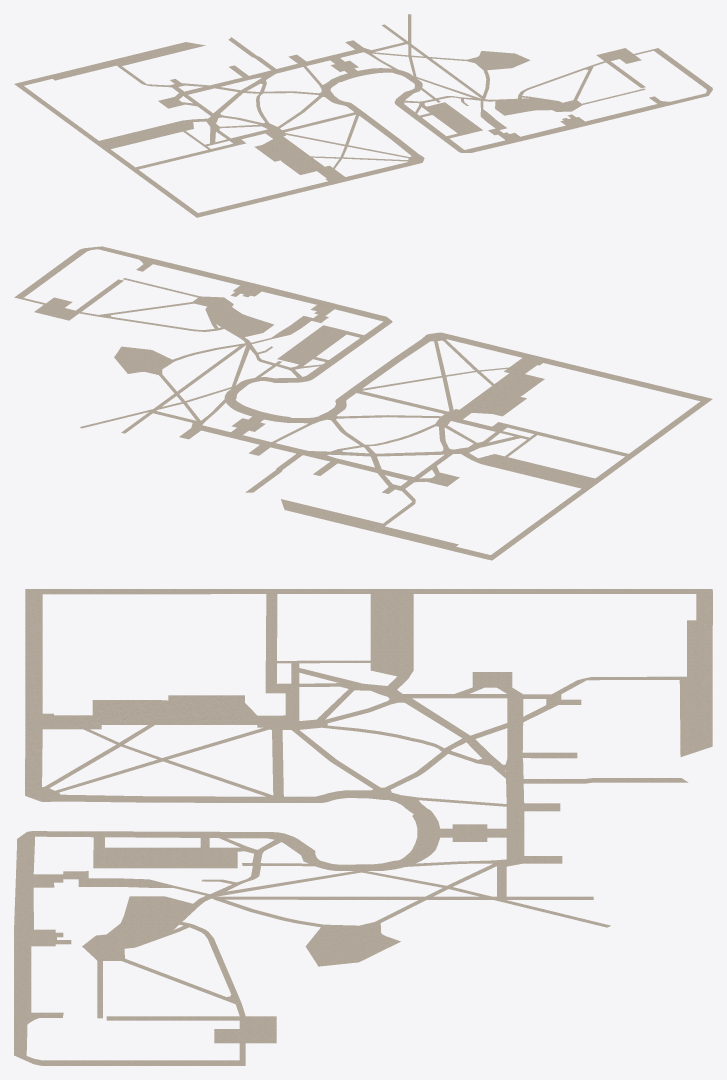
The model's file is SidewalksV7.gltf.
3 views of the same model, one above another, from view 1: azimuth 30°, elevation 25°; view 2: azimuth 150°, elevation 25°; view 3: azimuth 270°, elevation 25° (orthographic). The views are drawn at different scales.
Parts seen in each view (by area): view 1: Plane; view 2: Plane; view 3: Plane.
Part boxes in pixels (box(x1,y1,x2,y2)): Plane: box(14, 14, 712, 217); Plane: box(14, 246, 712, 560); Plane: box(14, 589, 712, 1065).
Bounding box in the file's own units: 352 × 1.08e-05 × 218.
1 material, 1 textured.
